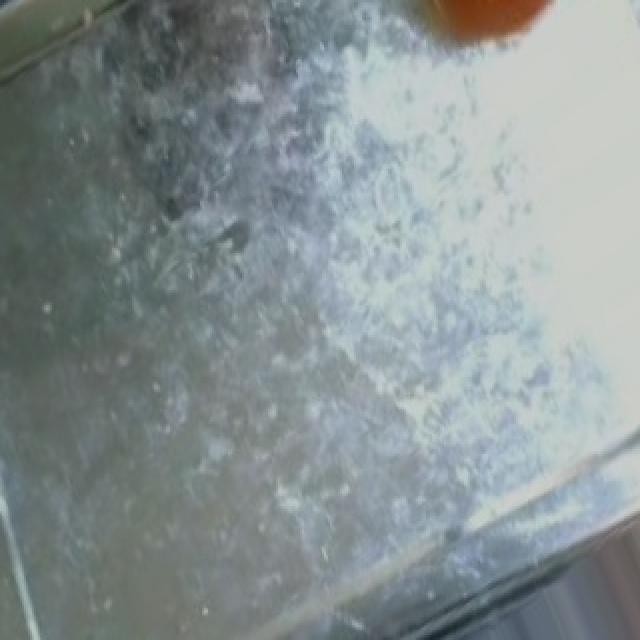Fruit: (368, 2, 574, 77)
